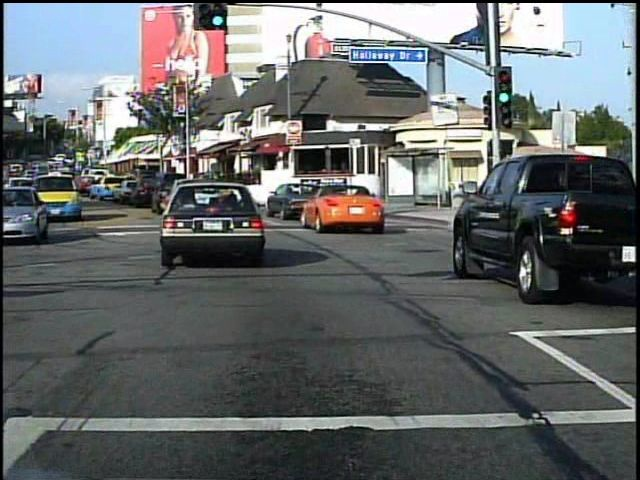person: (580, 187, 602, 250)
